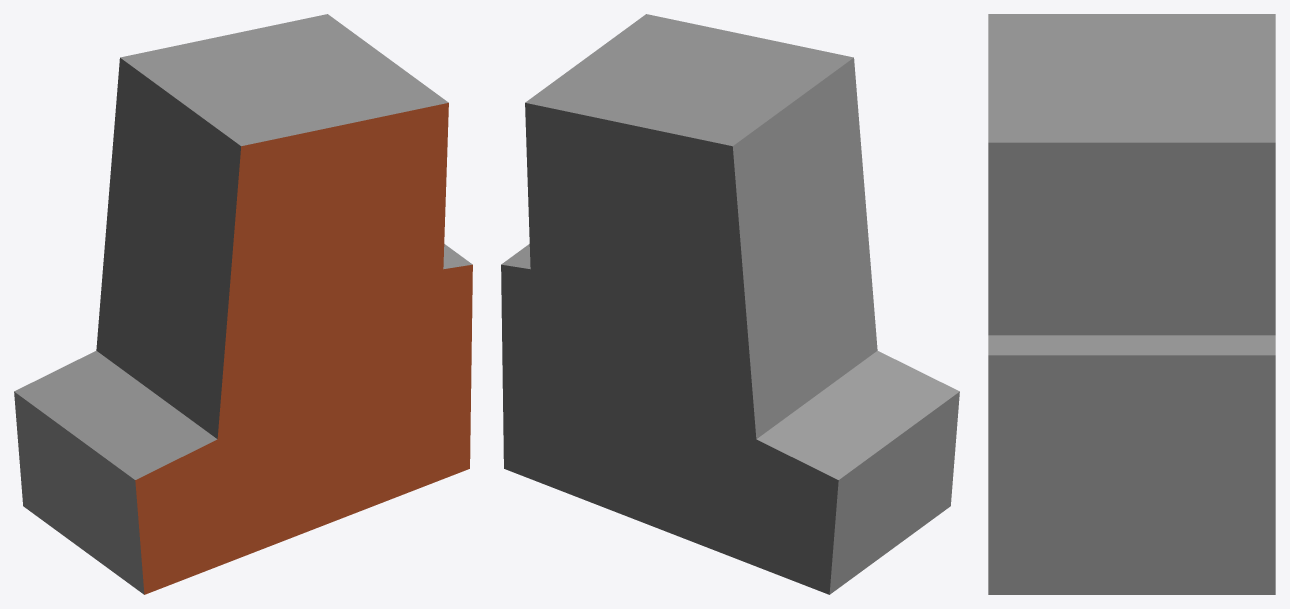
Rendered from construction_6883_assumed_A_Casa_h6m.obj.
3 views of the same model, side by side, from view 1: azimuth 30°, elevation 25°; view 2: azimuth 150°, elevation 25°; view 3: azimuth 270°, elevation 25° (orthographic). The views are drawn at different scales.
Parts seen in each view (by area): view 1: construction_6883_assumed_A_Casa; view 2: construction_6883_assumed_A_Casa; view 3: construction_6883_assumed_A_Casa.
Part boxes in pixels (x1,y1,x2,y2): construction_6883_assumed_A_Casa: (14, 14, 472, 594); construction_6883_assumed_A_Casa: (501, 14, 959, 594); construction_6883_assumed_A_Casa: (988, 14, 1275, 594).
Bounding box in the file's own units: 9.64 × 11.6 × 6.
